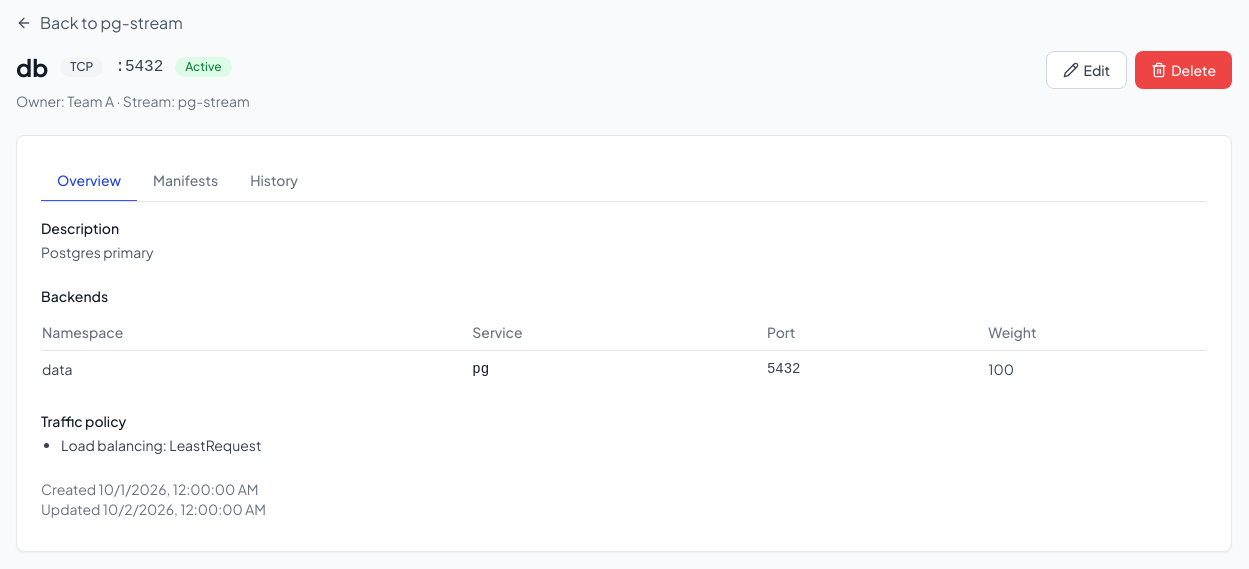
Manifests tab shows the TCPRoute and its BackendTrafficPolicy
Click the tab "Manifests". click: click(186, 181)
box: [137, 160, 234, 202]
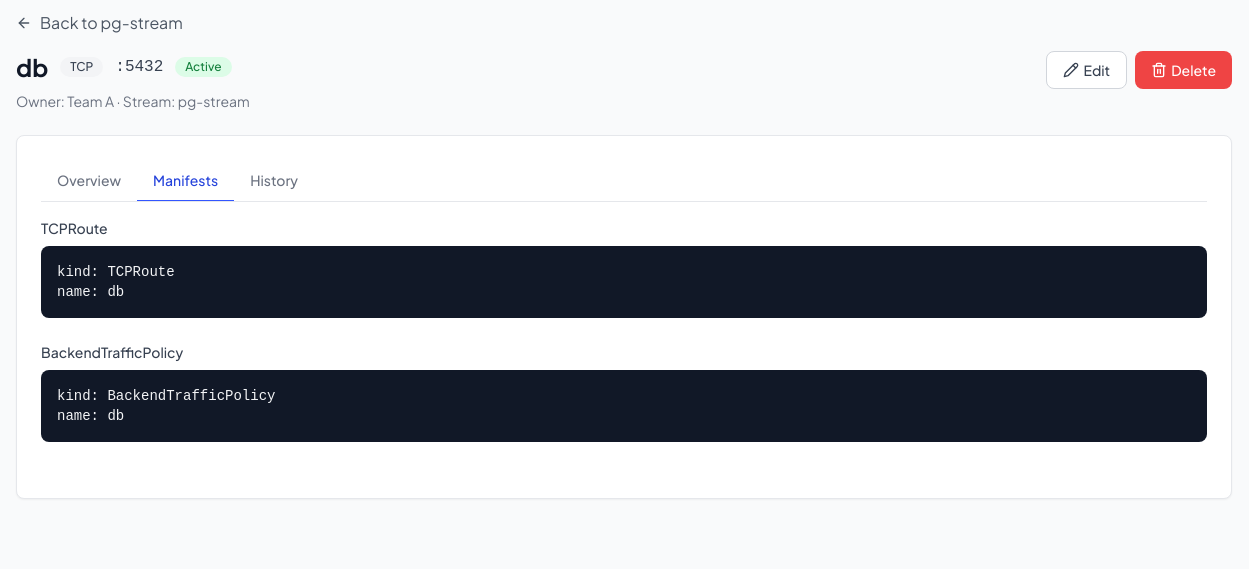
Check: the text "kind: TCPRoute name: db" is shown, box [41, 246, 1207, 318]
Check: the heading "TCPRoute" is shown, box [41, 219, 108, 237]
Check: the heading "BackendTrafficPolicy" is shown, box [41, 343, 183, 361]
